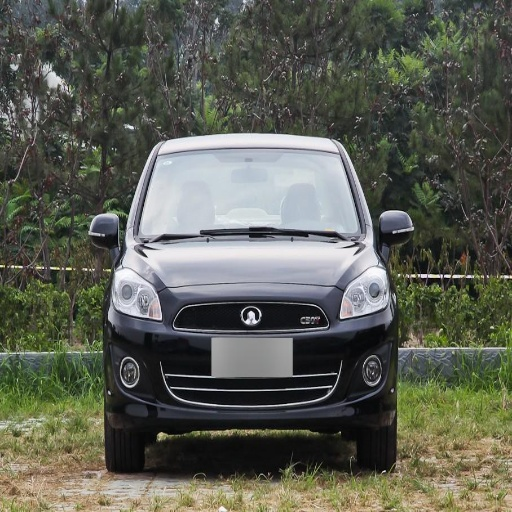front_bumper: (108, 287, 391, 423)
front_right_light: (113, 268, 161, 320)
hood: (126, 239, 376, 287)
left_mirror: (377, 210, 414, 250)
